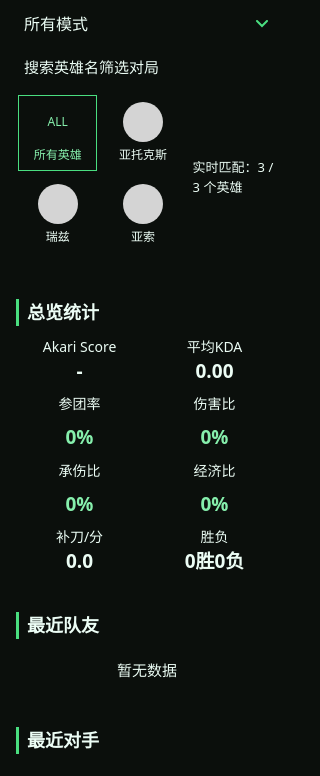
Test: SidebarPanel 英雄筛选磁贴墙 › 清空输入恢复展示全部英雄
Type "剑魔" into the field with class "champion-search".
click(147, 67); type("剑魔")  # box [16,50,278,84]
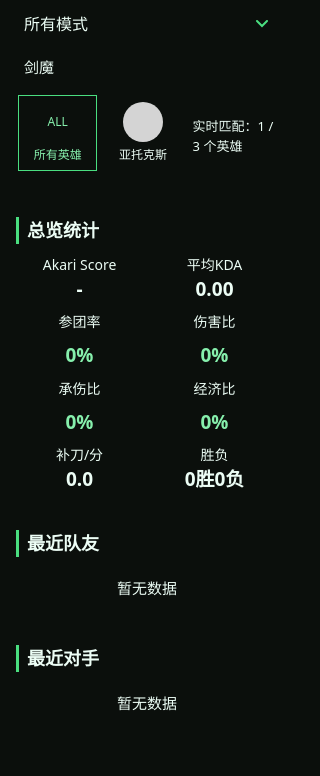
Clear the field with class "champion-search" at (147, 67), box [16,50,278,84]
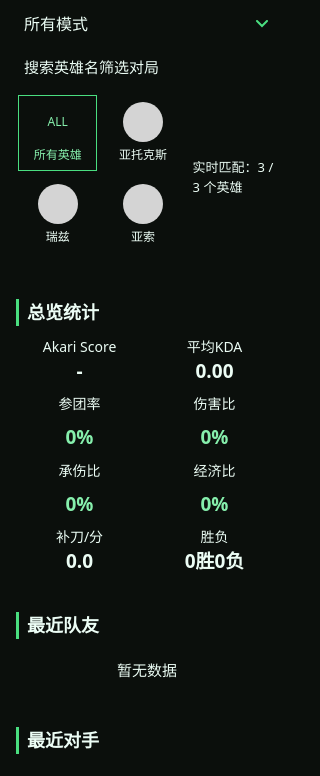
Expected: the elements with class "tile-label" read "所有英雄", "亚托克斯", "瑞兹", "亚索", in this order, [34,146,82,164]; [119,146,167,164]; [46,228,70,246]; [131,228,155,246]
